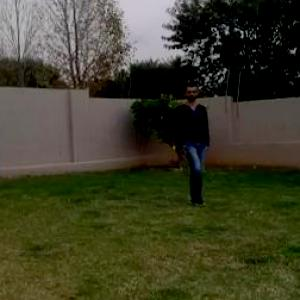follow: (178, 81, 209, 204)
